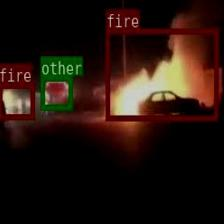fire: (106, 28, 218, 119), (0, 82, 33, 118)
